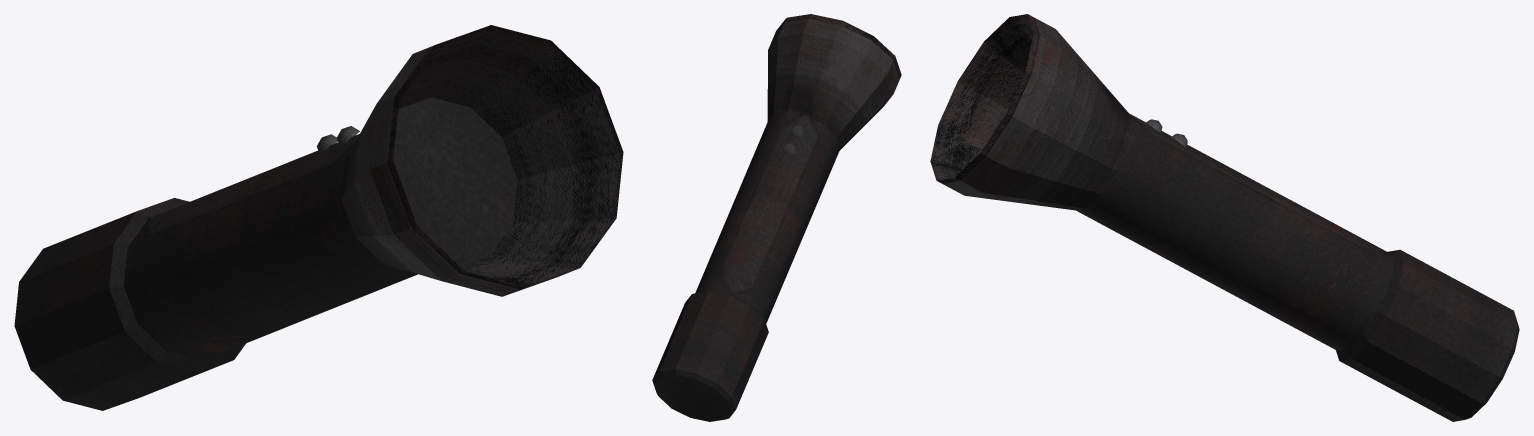
The model's file is lalampev2.fbx.
The picture shows the model from 3 angles, left to right: view 1: azimuth 30°, elevation 25°; view 2: azimuth 150°, elevation 25°; view 3: azimuth 270°, elevation 25°; orthographic projection. The views are drawn at different scales.
Parts seen in each view (by area): view 1: Cylinder002; view 2: Cylinder002, Box001; view 3: Cylinder002.
Boxes of the visible parts, bbox=[...] form: Cylinder002: bbox=[14, 25, 623, 410]; Cylinder002: bbox=[652, 14, 901, 421]; Box001: bbox=[783, 126, 803, 154]; Cylinder002: bbox=[930, 14, 1519, 421].
Bounding box in the file's own units: 17.54 × 38.07 × 49.69.
